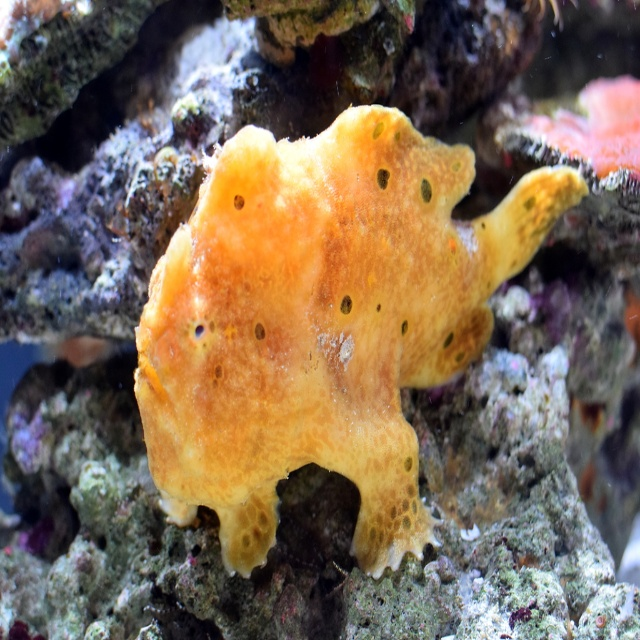Fish: (135, 109, 588, 581)
